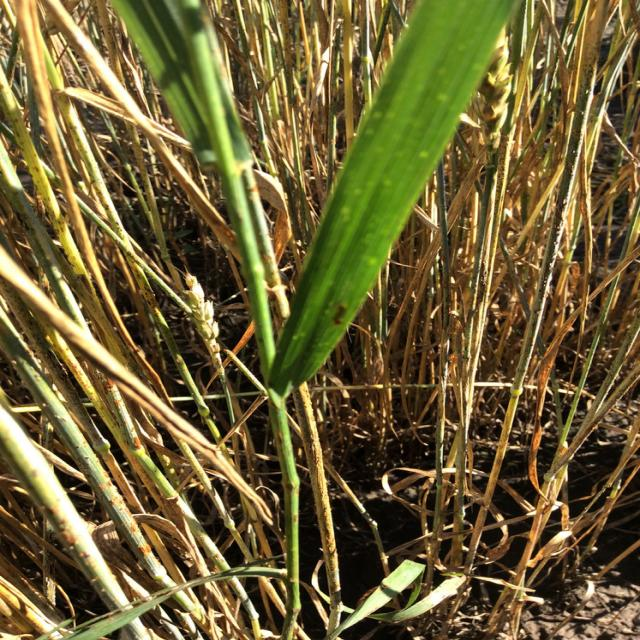wheat-stemrust: (0, 403, 133, 615), (532, 59, 599, 319), (38, 395, 143, 543), (293, 382, 342, 609), (546, 362, 640, 478), (95, 368, 142, 451), (469, 236, 494, 313), (331, 301, 360, 329), (135, 544, 152, 557)
